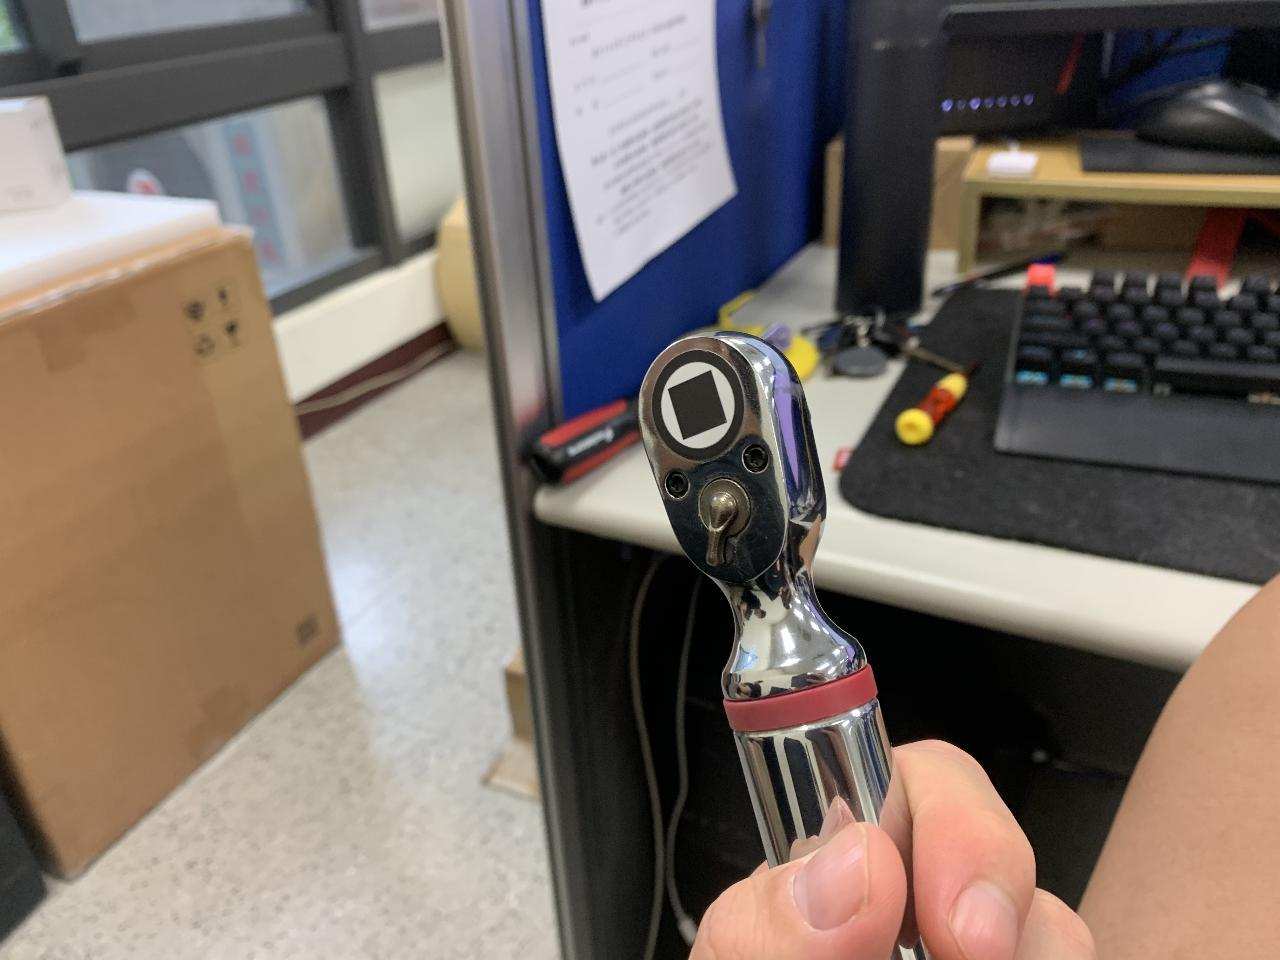Tool: (617, 326, 871, 690)
